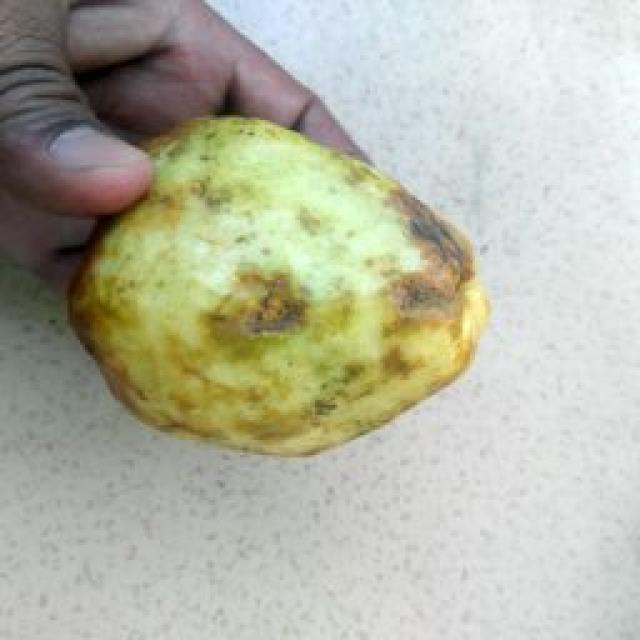Bad_Guava: (69, 119, 489, 454)
